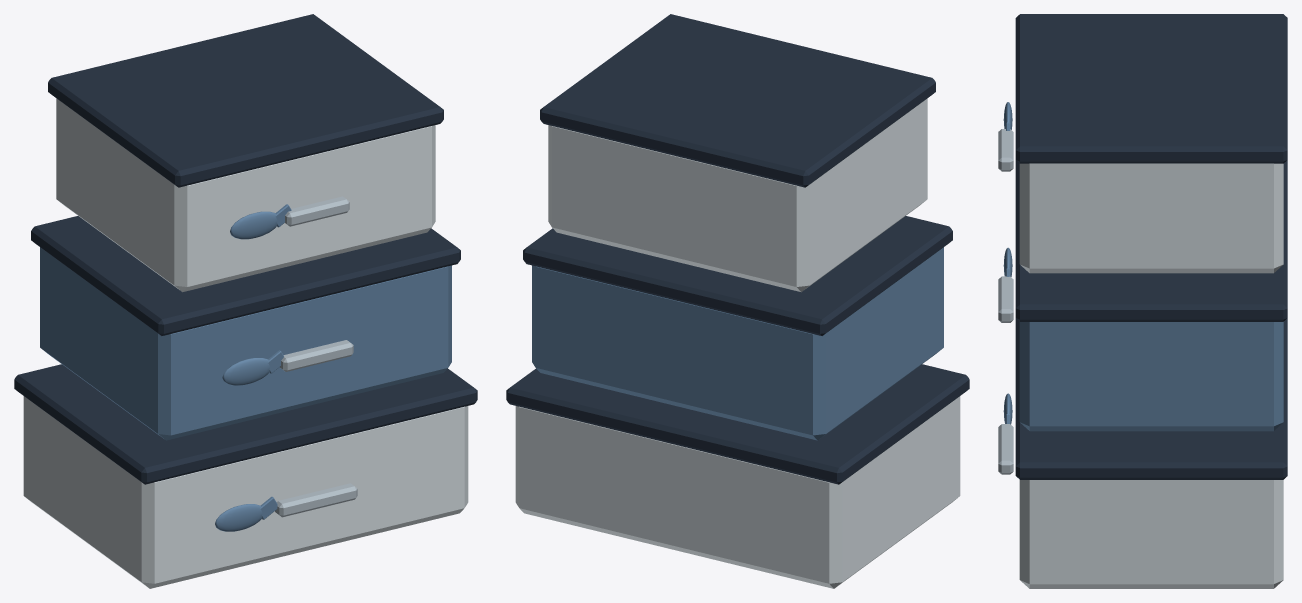
The model's file is storage_12.glb.
3 views of the same model, side by side, from view 1: azimuth 30°, elevation 25°; view 2: azimuth 150°, elevation 25°; view 3: azimuth 270°, elevation 25° (orthographic). The views are drawn at different scales.
Parts seen in each view (by area): view 1: StackCrate (×3), Lid (×3), Handle (×3), WhaleBody (×3); view 2: StackCrate (×3), Lid (×3); view 3: StackCrate (×3), Lid (×3), Handle (×3).
Boxes of the visible parts, x1=… form: StackCrate (×3): x1=23, y1=98, x2=468, y2=588; Lid (×3): x1=14, y1=14, x2=477, y2=484; Handle (×3): x1=275, y1=196, x2=357, y2=517; WhaleBody (×3): x1=215, y1=211, x2=277, y2=531; StackCrate (×3): x1=515, y1=98, x2=960, y2=588; Lid (×3): x1=506, y1=14, x2=969, y2=484; StackCrate (×3): x1=1019, y1=163, x2=1283, y2=588; Lid (×3): x1=1015, y1=14, x2=1287, y2=479; Handle (×3): x1=998, y1=129, x2=1013, y2=474.
Bounding box in the file's own units: 0.7313 × 0.8635 × 0.5262.
